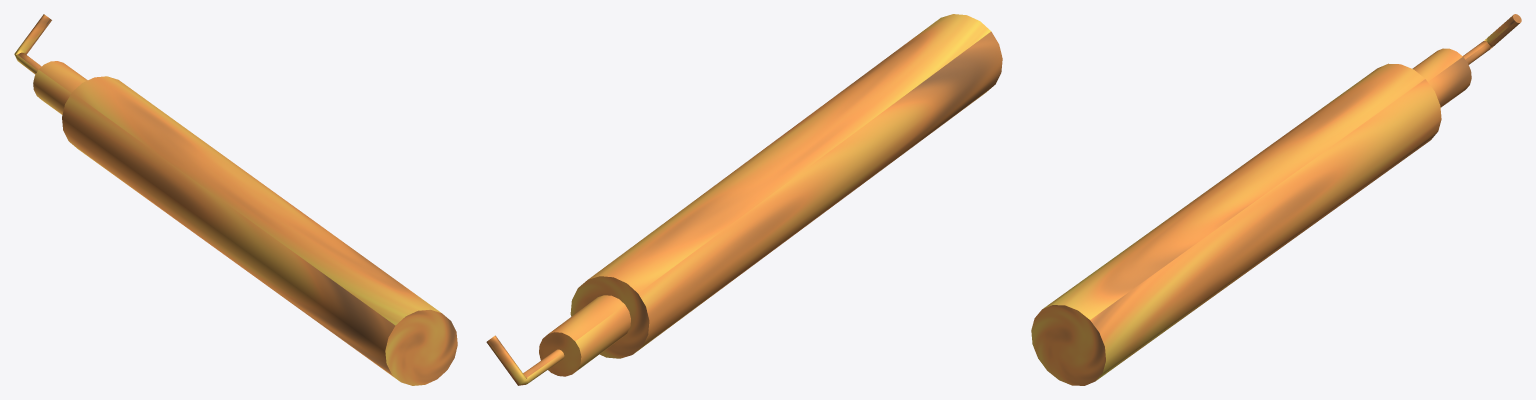
The model's file is btex.obj.
3 views of the same model, side by side, from view 1: azimuth 30°, elevation 25°; view 2: azimuth 150°, elevation 25°; view 3: azimuth 330°, elevation 25° (orthographic). The views are drawn at different scales.
Visible parts, largest first — view 1: Cylinder01, Cylinder03; view 2: Cylinder01, Cylinder03; view 3: Cylinder01, Cylinder03.
Part boxes in pixels (<box>): Cylinder01: <box>33,61,457,385</box>; Cylinder03: <box>14,14,51,74</box>; Cylinder01: <box>539,14,1002,376</box>; Cylinder03: <box>486,335,564,385</box>; Cylinder01: <box>1031,48,1471,385</box>; Cylinder03: <box>1463,14,1521,64</box>.
Bounding box in the file's own units: 12.76 × 13.27 × 123.
Materials: 1 (1 with a texture image).
